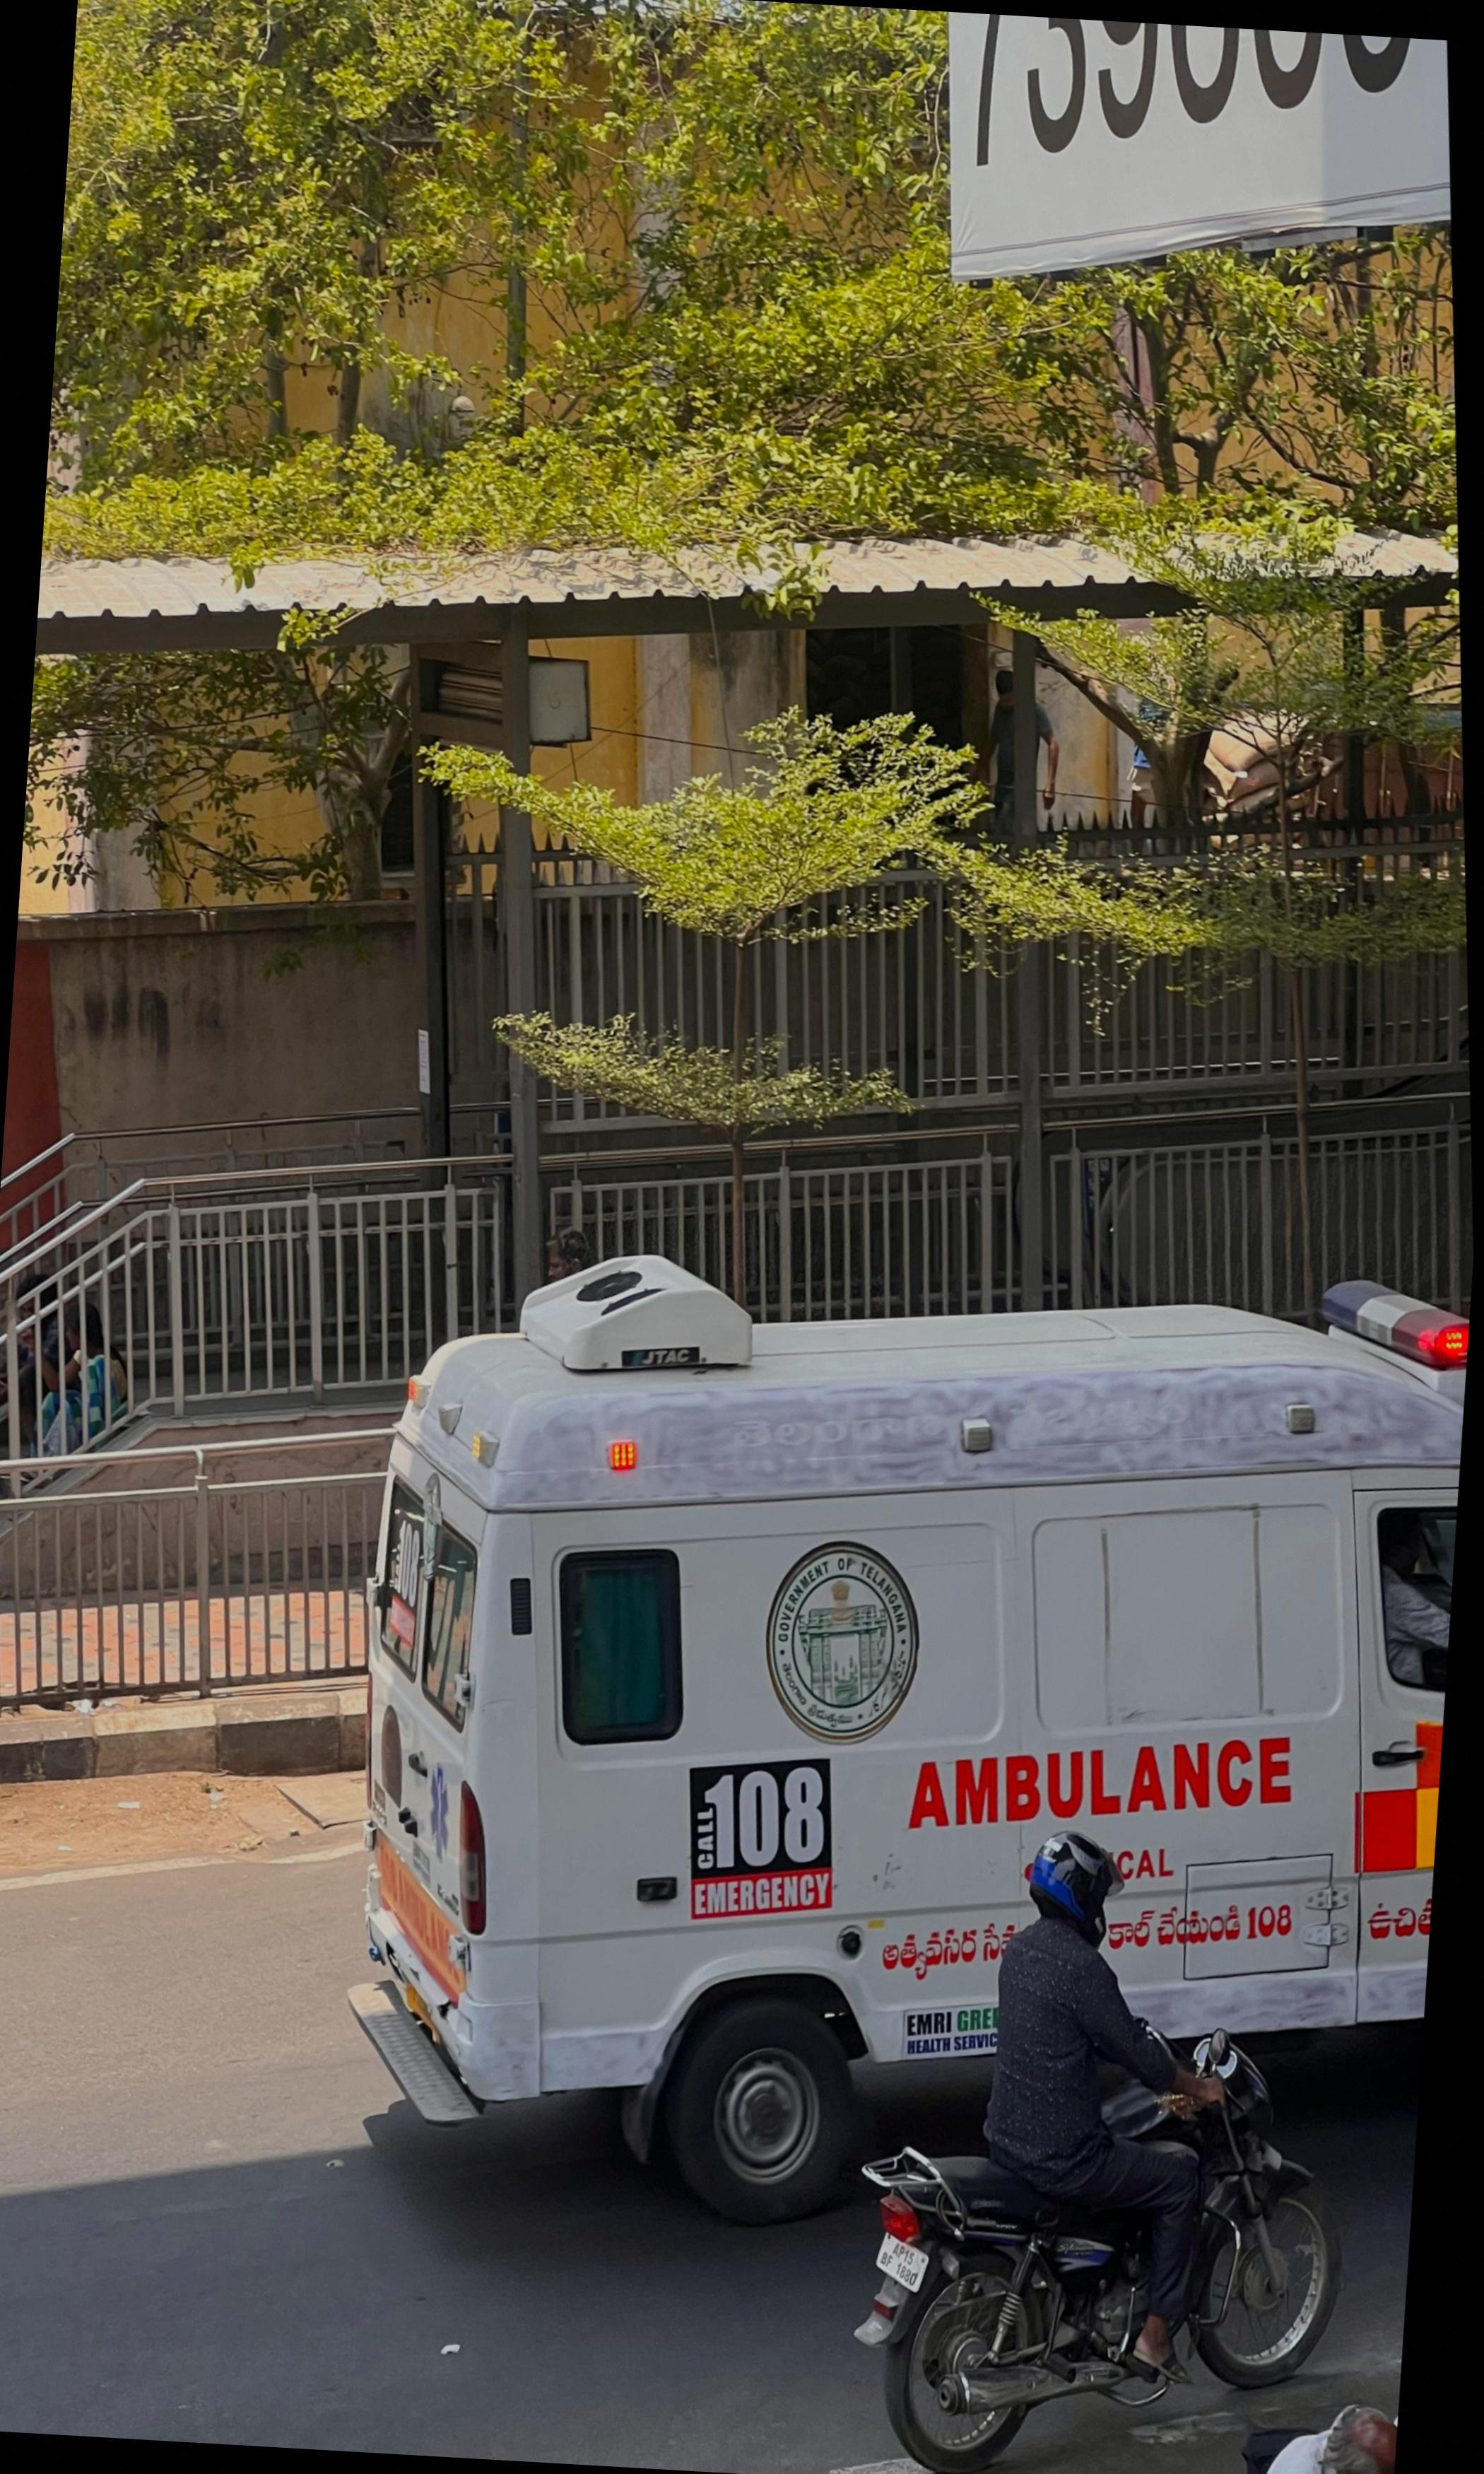ambulance: (353, 1262, 1463, 2228)
